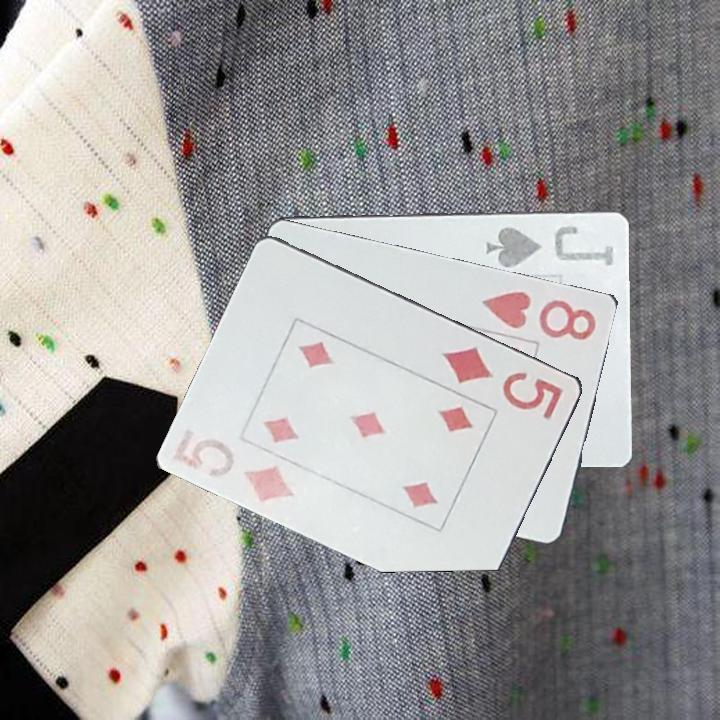5d: (439, 343, 567, 422), (185, 434, 298, 505)
8h: (478, 287, 600, 343)
Js: (484, 220, 621, 270)
